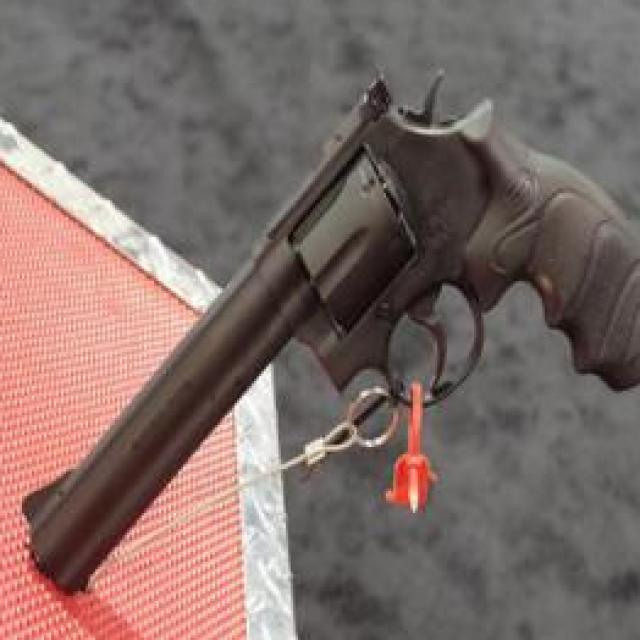pistol: (32, 64, 640, 604)
